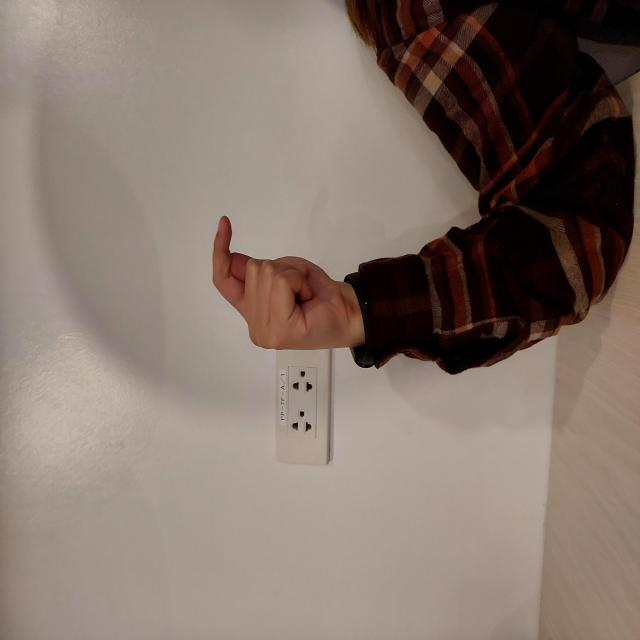T: (286, 209, 428, 352)
